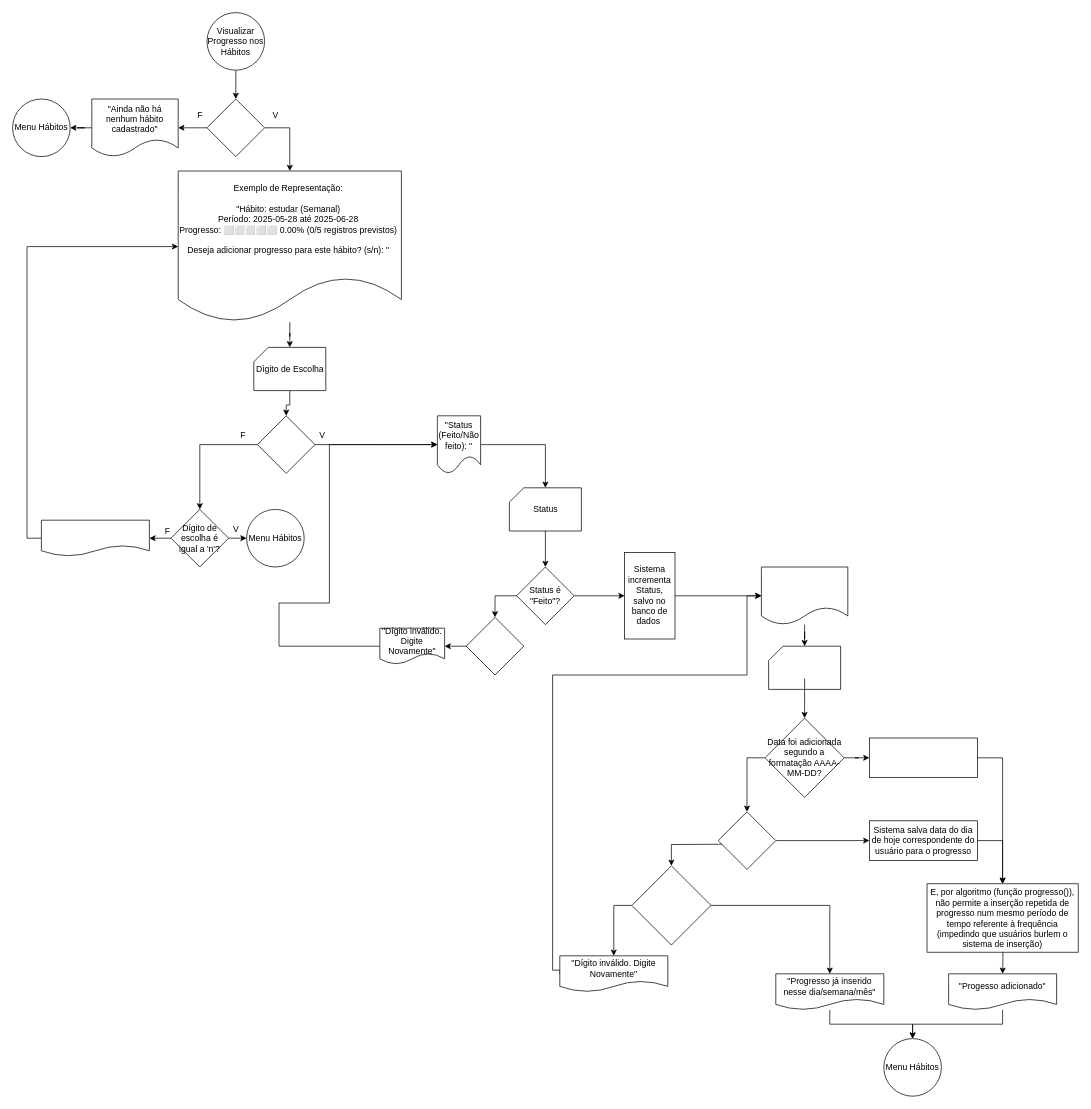
Some shapes in this 1091 by 1109 pixel diagram are drawn without their labels. The centre of each missing label's shape, as x and y in pixels:
"Data (AAAA-MM-DD), ou deixe Vazio pára hoje: ": point 804,595
"Dígito inválido. Digite-o novamente ": point 95,537
Data: point 804,667
Data está dentro do intervalo da frequência (diária, semanal ou mensal): point 671,905
Data é Vazio?: point 746,840
Dígito de escolha é igual a 's'?: point 286,444
Existe algum hábito cadastrado?: point 235,127
Sistema salva data digitada para o progresso: point 923,757
Status é "Não feito"?: point 494,646
